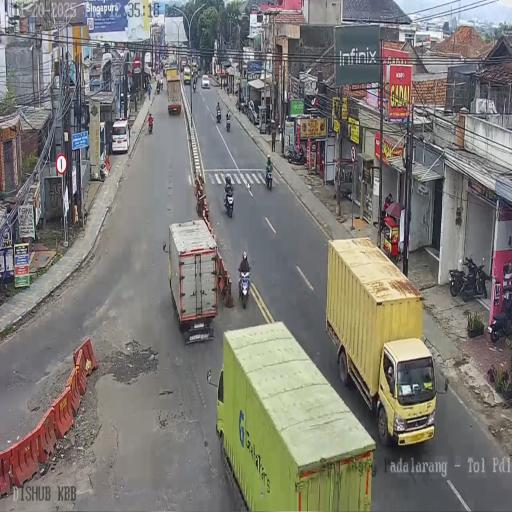3: (329, 238, 433, 445), (166, 219, 221, 341), (166, 68, 182, 116), (184, 65, 191, 84), (180, 57, 187, 71), (162, 57, 169, 71)
car: (111, 118, 130, 154), (247, 100, 260, 125), (201, 75, 210, 88), (192, 62, 198, 76)
truck: (460, 254, 487, 302), (490, 288, 512, 342), (238, 268, 251, 308), (286, 143, 306, 165), (224, 186, 234, 218), (265, 164, 273, 190), (239, 99, 249, 115), (148, 116, 153, 134), (276, 122, 282, 136), (216, 106, 221, 122), (148, 83, 152, 100), (156, 80, 160, 94), (160, 77, 164, 91), (193, 79, 196, 92), (164, 68, 166, 78)
